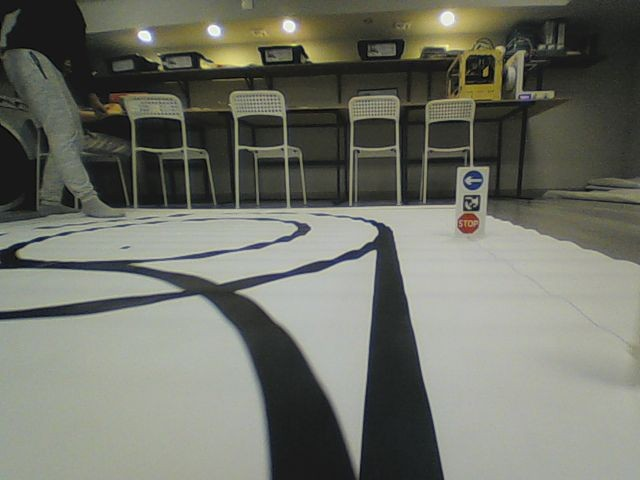Stop: (456, 212, 480, 234)
